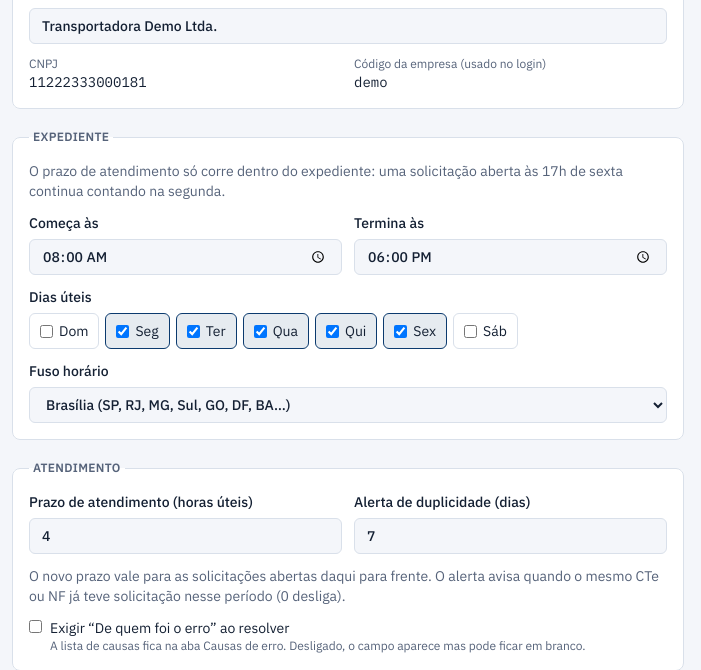
Scenario: Parâmetros da empresa › mostra os valores em horas e salva convertendo para minutos
Replace the text in the number field labelled "Prazo de atendimento (horas úteis)" with "2.5". click: [186, 536]
box: x1=29 y1=518 x2=342 y2=554
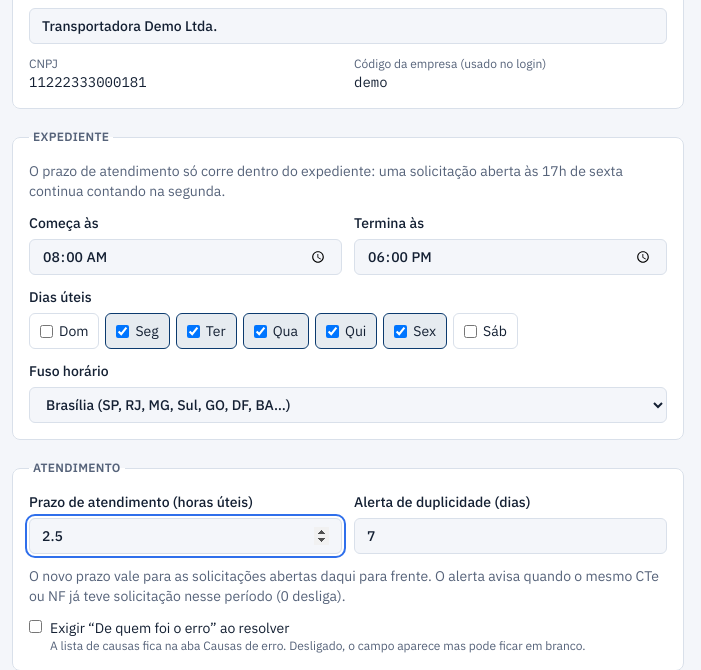
Click the checkbox labelled "Sáb". click: [471, 331]
box: x1=464 y1=324 x2=477 y2=338
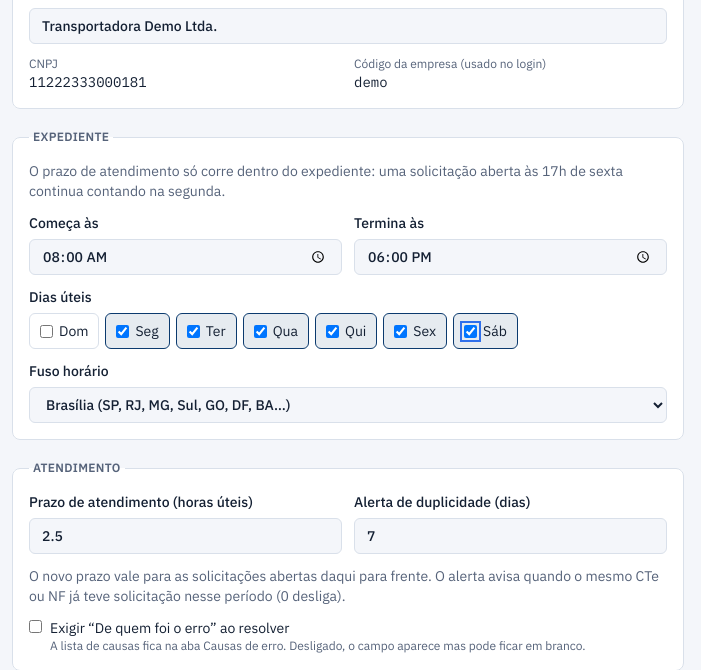
Click the checkbox labelled "Seg". click: [123, 331]
box: x1=116 y1=324 x2=130 y2=338
(page scrolled)
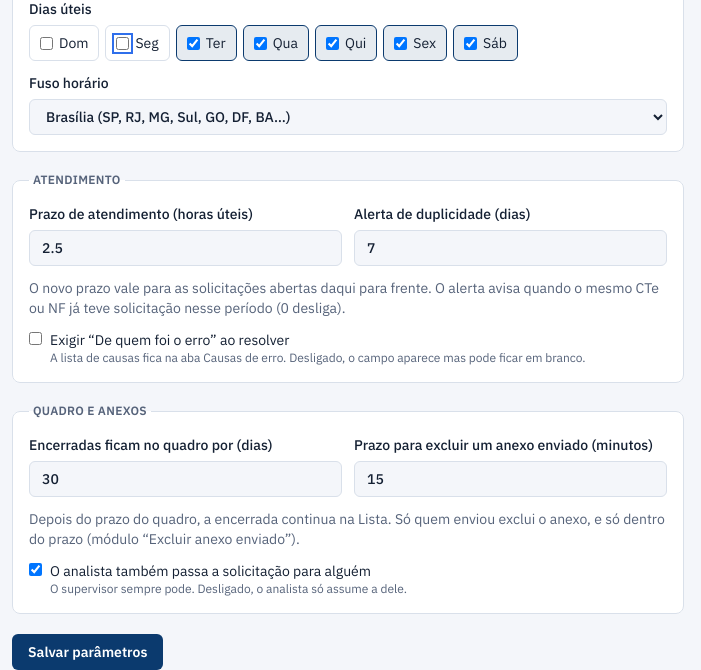
Click the button "Salvar parâmetros". click: [88, 652]
box: x1=12 y1=634 x2=163 y2=669
(page scrolled)
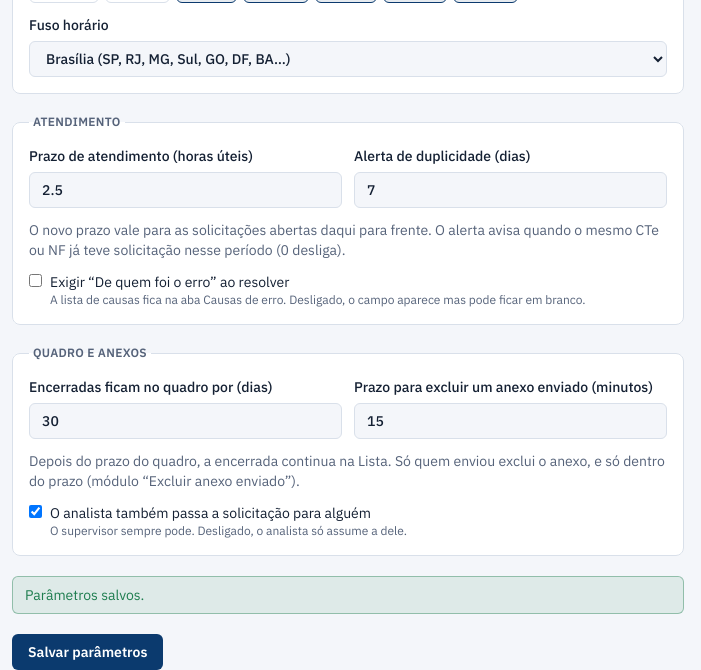
Check: the text "Parâmetros salvos." is shown, box x1=12 y1=576 x2=684 y2=614
